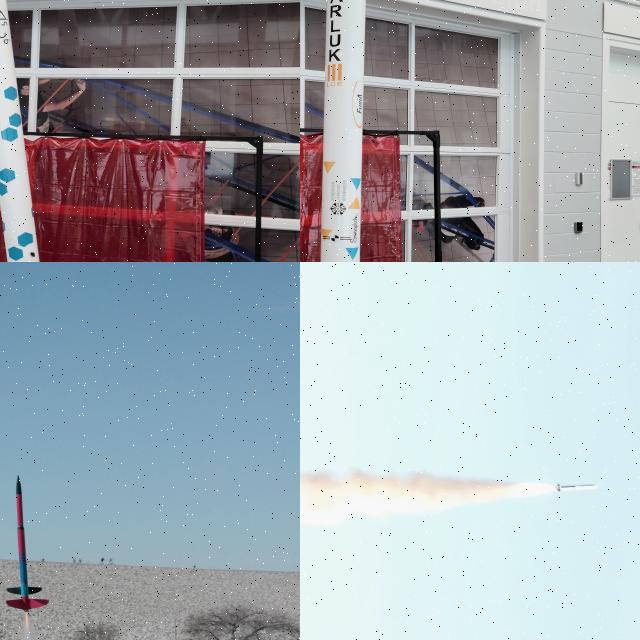Rocket: (320, 0, 366, 262), (5, 474, 51, 612), (555, 483, 598, 493)
